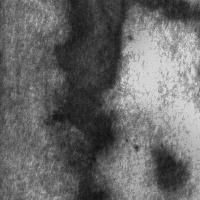patches: (52, 1, 122, 168), (75, 109, 200, 200), (44, 0, 156, 61)
